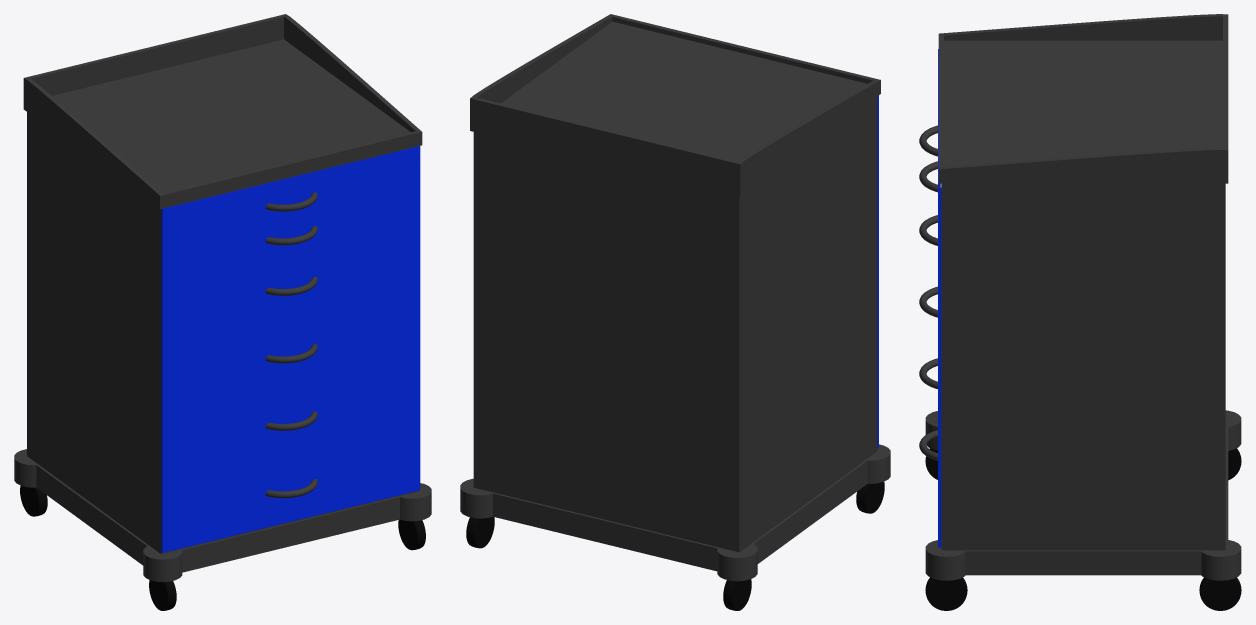
Rendered from Anethesia Cart v1.5.FBX.
The picture shows the model from 3 angles, left to right: view 1: azimuth 30°, elevation 25°; view 2: azimuth 150°, elevation 25°; view 3: azimuth 270°, elevation 25°; orthographic projection. The views are drawn at different scales.
Visible parts, largest first — view 1: DrawerContainer, TopWorkspace, DrawerB02, DrawerB03, DrawerB04, DrawerB01, BottomSupport, DrawerS01, DrawerS02, DrawerBar, Wheel02, Wheel03 (+1 smaller); view 2: DrawerContainer, TopWorkspace, BottomSupport, Wheel04, Wheel01, Wheel02; view 3: DrawerContainer, TopWorkspace, BottomSupport, Wheel03, Wheel04.
Part boxes in pixels (x1,y1,x2,y2): DrawerContainer: (27, 112, 418, 553); TopWorkspace: (23, 14, 422, 209); DrawerB02: (161, 288, 420, 417); DrawerB03: (161, 355, 420, 485); DrawerB04: (161, 423, 420, 552); DrawerB01: (161, 220, 420, 350); BottomSupport: (14, 449, 431, 582); DrawerS01: (161, 153, 420, 249); DrawerS02: (161, 186, 420, 283); DrawerBar: (161, 146, 420, 215); Wheel02: (149, 580, 176, 610); Wheel03: (398, 519, 425, 550); DrawerContainer: (473, 97, 877, 552); TopWorkspace: (470, 14, 880, 196); BottomSupport: (460, 444, 890, 581); Wheel04: (466, 517, 494, 548); Wheel01: (723, 579, 751, 610); Wheel02: (856, 482, 884, 513); DrawerContainer: (941, 183, 1225, 550); TopWorkspace: (938, 14, 1228, 183); BottomSupport: (925, 410, 1241, 580); Wheel03: (925, 577, 967, 610); Wheel04: (1199, 577, 1241, 610).
Bounding box in the file's own units: 66 × 96.96 × 61.14.
